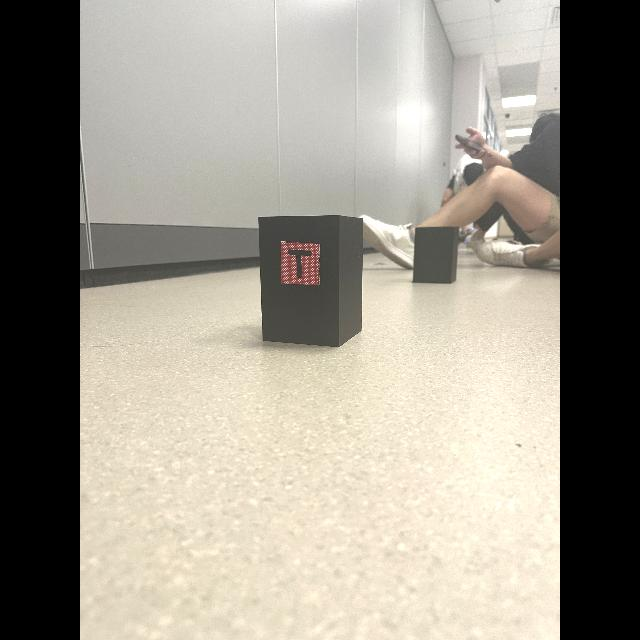T: (288, 249, 312, 278)
